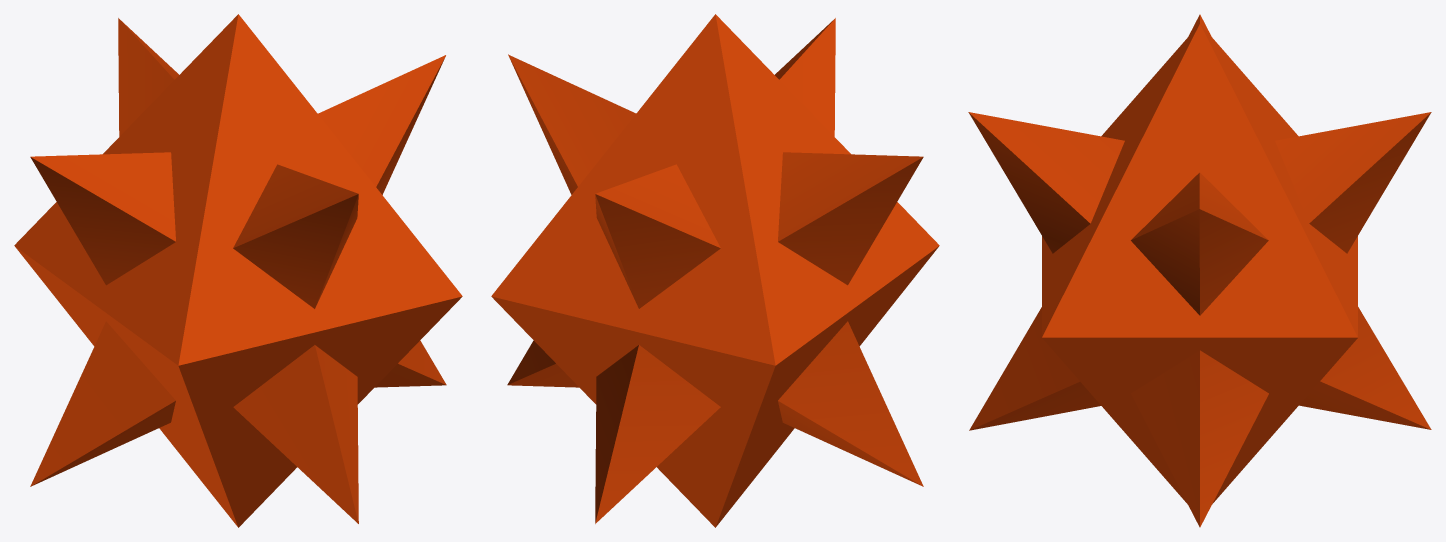
File: TetraEnemyRedv2.fbx
The picture shows the model from 3 angles, left to right: view 1: azimuth 30°, elevation 25°; view 2: azimuth 150°, elevation 25°; view 3: azimuth 270°, elevation 25°; orthographic projection. The views are drawn at different scales.
Visible parts, largest first — view 1: diamond_geo, spikes_geo; view 2: diamond_geo, spikes_geo; view 3: diamond_geo, spikes_geo.
Boxes of the visible parts, <box> form: diamond_geo: <box>14,14,462,527</box>; spikes_geo: <box>30,18,446,523</box>; diamond_geo: <box>491,14,939,527</box>; spikes_geo: <box>507,18,923,523</box>; diamond_geo: <box>1042,24,1357,504</box>; spikes_geo: <box>968,14,1431,527</box>.
Bounding box in the file's own units: 130 × 153 × 130.
